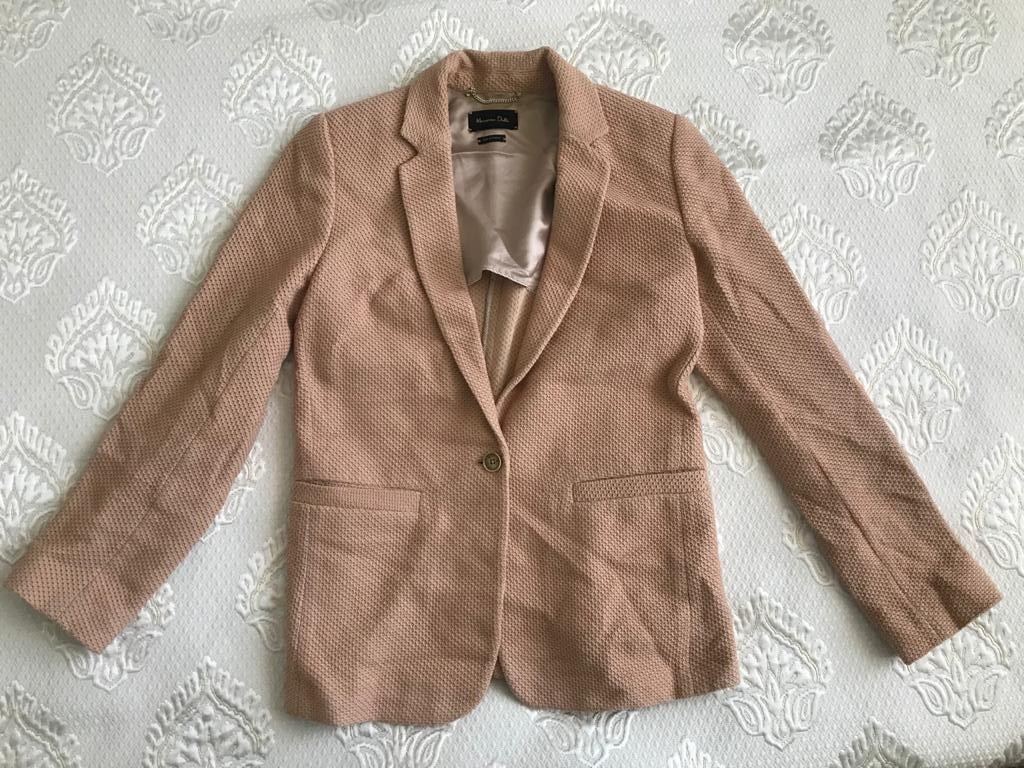clothes: (13, 42, 1002, 715)
